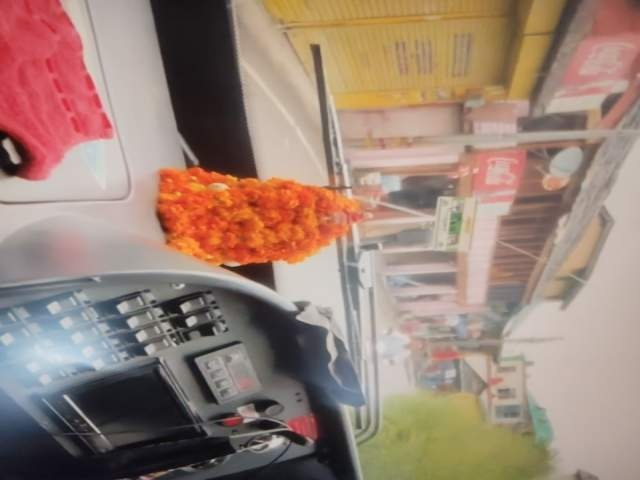pothole: (178, 311, 278, 391)
